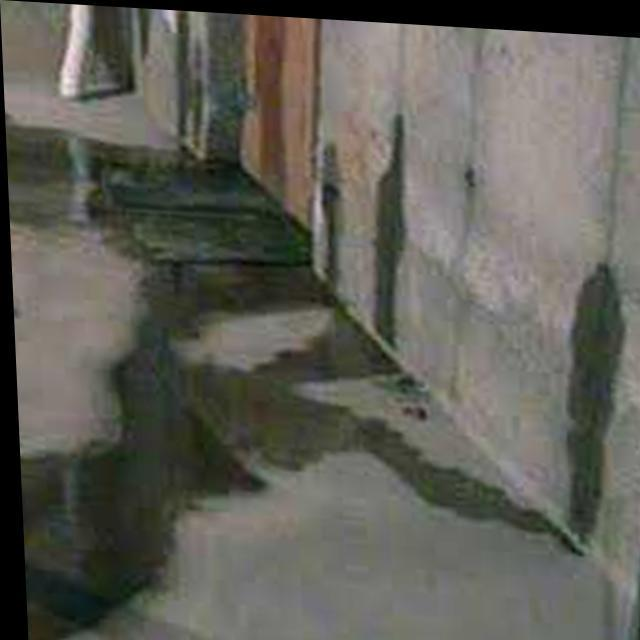water accumulation: (16, 114, 625, 640)
